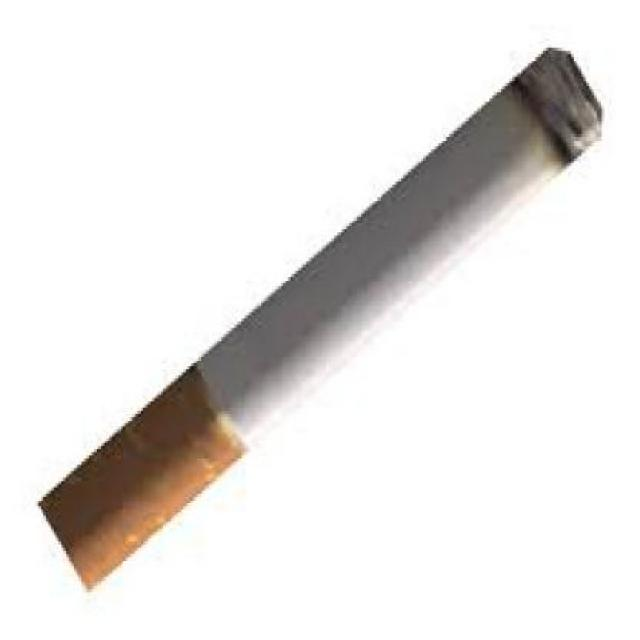cigarette: (35, 38, 617, 605)
